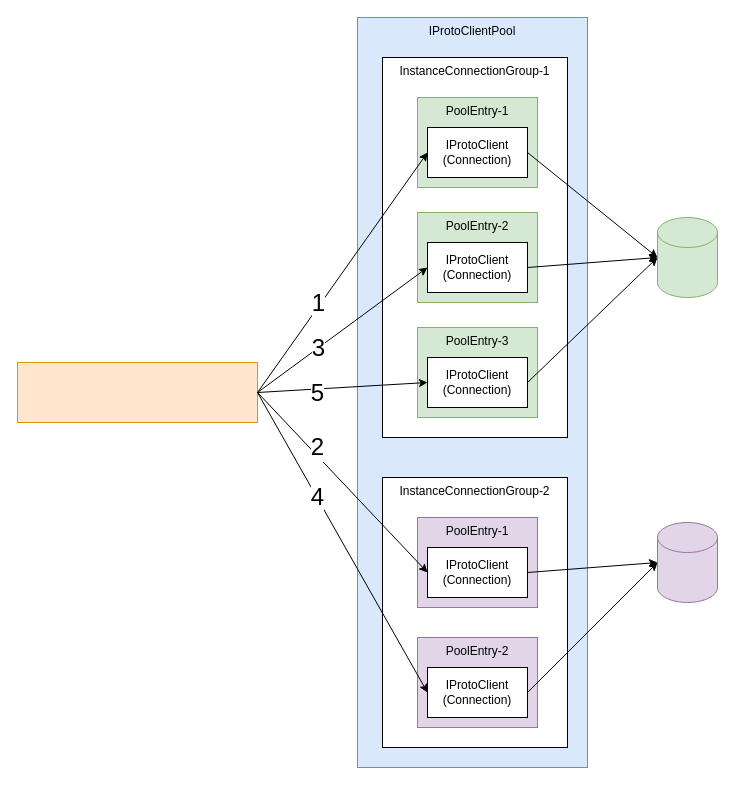
Image size: 735x785. Some labels were removed from this diagram. The shapes that lost their labels are listed below. From the top down, each one's centre as x and y in pixels, then its label:
At [687,257]: "Node-1".
At [137,392]: "TarantoolDistributingRoundRobinBalancer".
At [687,562]: "Node-2".
